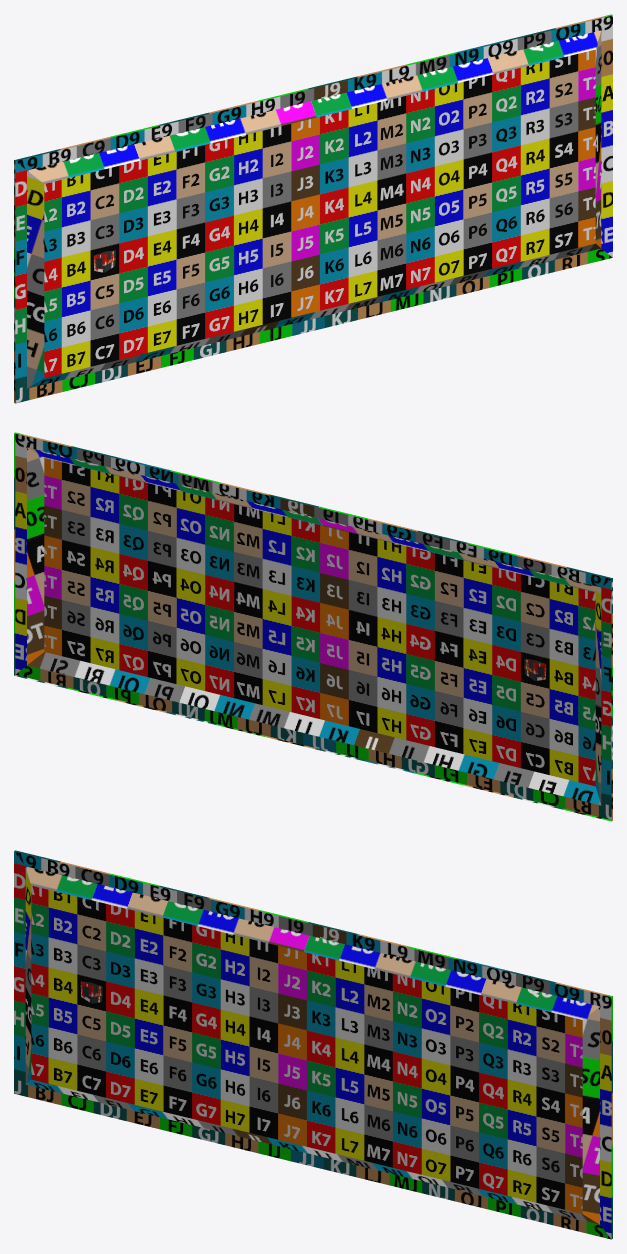
File: pictureframe1.FBX
3 views of the same model, one above another, from view 1: azimuth 30°, elevation 25°; view 2: azimuth 150°, elevation 25°; view 3: azimuth 330°, elevation 25° (orthographic).
Parts seen in each view (by area): view 1: pictureframe1; view 2: pictureframe1; view 3: pictureframe1.
Part boxes in pixels (bbox=[...]): pictureframe1: bbox=[14, 14, 612, 403]; pictureframe1: bbox=[14, 432, 612, 821]; pictureframe1: bbox=[14, 850, 612, 1239].
Size of the model in its own units: 4.77 by 1.85 by 0.1005.
Materials: 1 (1 with a texture image).
